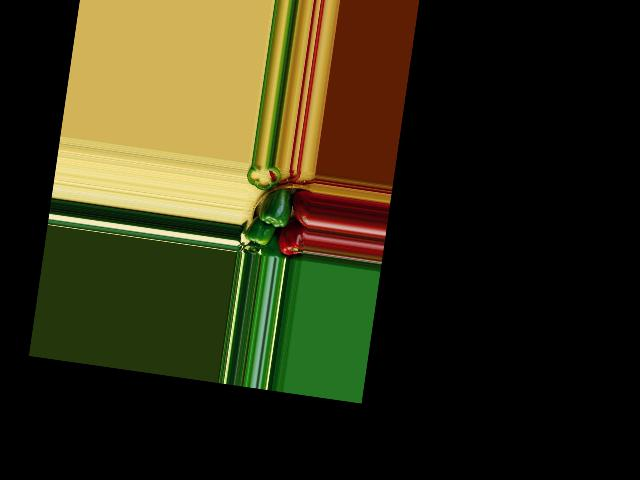bell_pepper: (290, 188, 312, 228)
